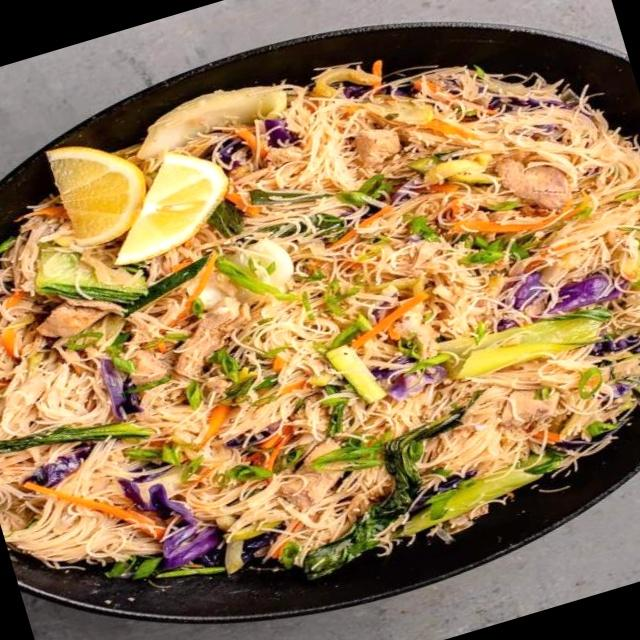pancit bihon: (0, 71, 639, 562)
